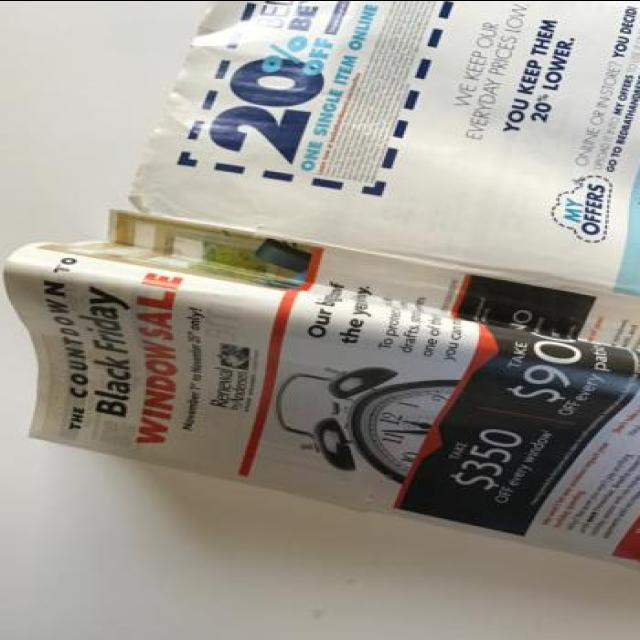kertas: (5, 0, 640, 569)
